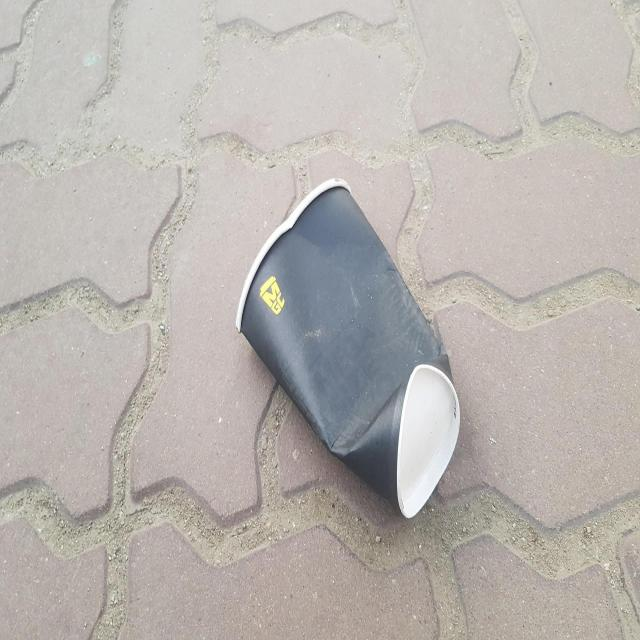paperpack: (236, 178, 461, 518)
